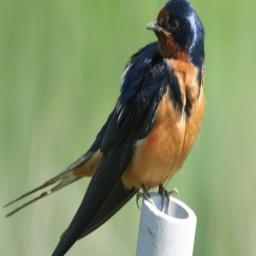Swallow: (3, 0, 208, 256)
